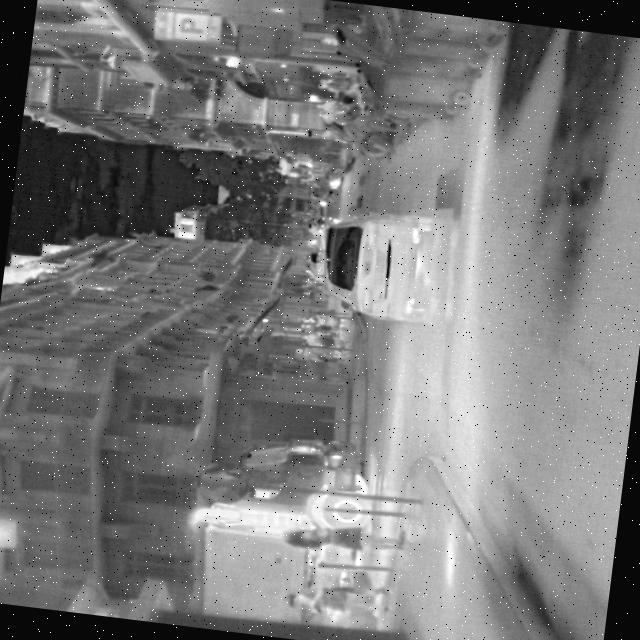Pedestrian: (282, 511, 408, 562), (280, 572, 393, 624), (292, 342, 349, 366), (298, 328, 351, 350), (301, 310, 351, 330), (314, 74, 359, 95), (315, 96, 348, 115), (314, 109, 345, 127)
Vehicle: (175, 418, 384, 640), (314, 197, 443, 326)
